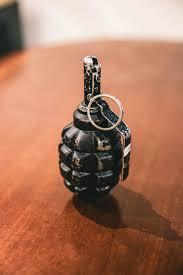F1: (59, 56, 132, 201)
